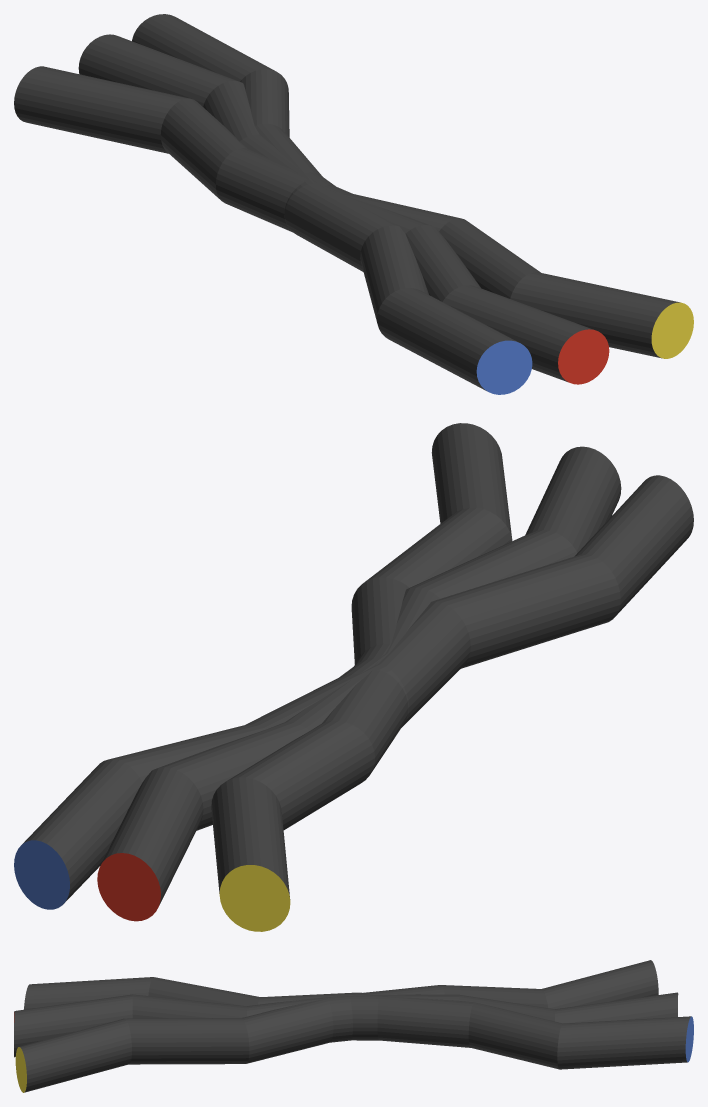
The model's file is cabos.fbx.
3 views of the same model, one above another, from view 1: azimuth 30°, elevation 25°; view 2: azimuth 150°, elevation 25°; view 3: azimuth 270°, elevation 25° (orthographic). The views are drawn at different scales.
Visible parts, largest first — view 1: Cylinder.002, Cylinder.004, Cylinder.003, Cylinder.001; view 2: Cylinder.002, Cylinder.007, Cylinder.006, Cylinder.005; view 3: Cylinder.002, Cylinder.001, Cylinder.005.
Part boxes in pixels (left/top/right/bottom): Cylinder.002: left=14, top=14, right=680, bottom=390; Cylinder.004: left=476, top=340, right=532, bottom=394; Cylinder.003: left=558, top=329, right=609, bottom=384; Cylinder.001: left=651, top=302, right=693, bottom=358; Cylinder.002: left=23, top=423, right=693, bottom=905; Cylinder.007: left=219, top=865, right=290, bottom=931; Cylinder.006: left=97, top=853, right=160, bottom=921; Cylinder.005: left=14, top=840, right=69, bottom=909; Cylinder.002: left=14, top=960, right=690, bottom=1092; Cylinder.001: left=15, top=1047, right=26, bottom=1092; Cylinder.005: left=685, top=1016, right=693, bottom=1062.
Size of the model in its own units: 21.54 by 4.1 by 57.33.
